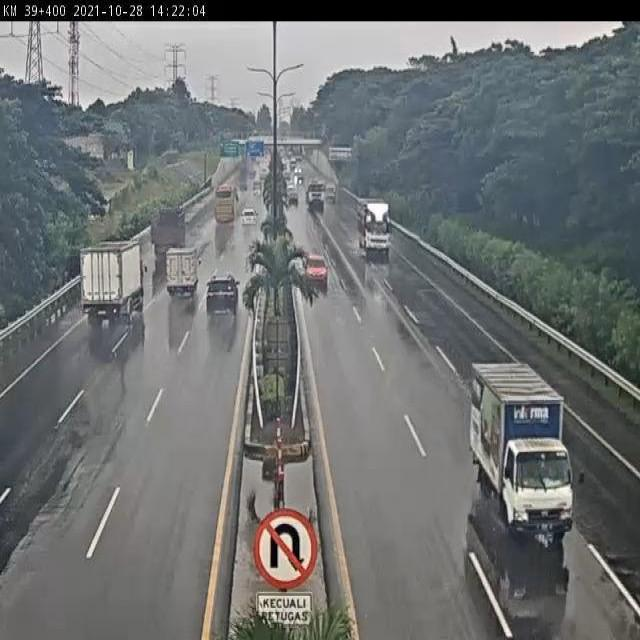big bus: (211, 185, 241, 228)
car: (204, 271, 240, 317), (300, 253, 330, 284)
truck-l-: (80, 237, 146, 323), (355, 201, 393, 260), (146, 210, 186, 262)
truck-s-: (468, 362, 572, 534), (165, 247, 203, 305)
